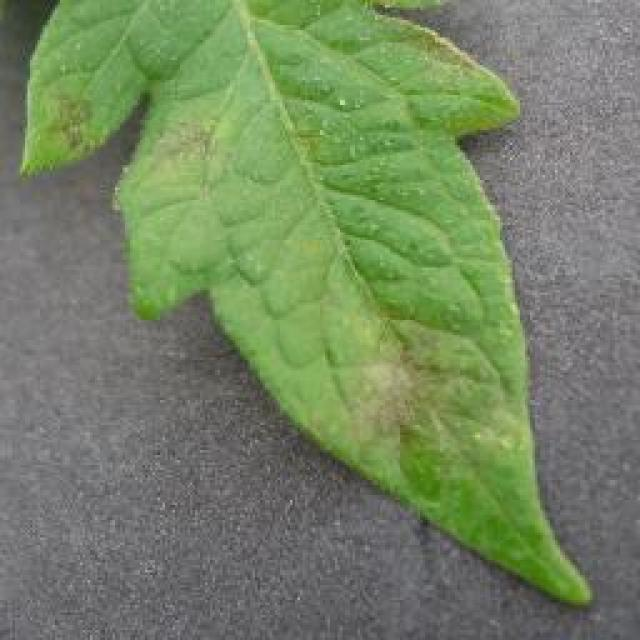Tomato Late Blight: (283, 227, 505, 445)
